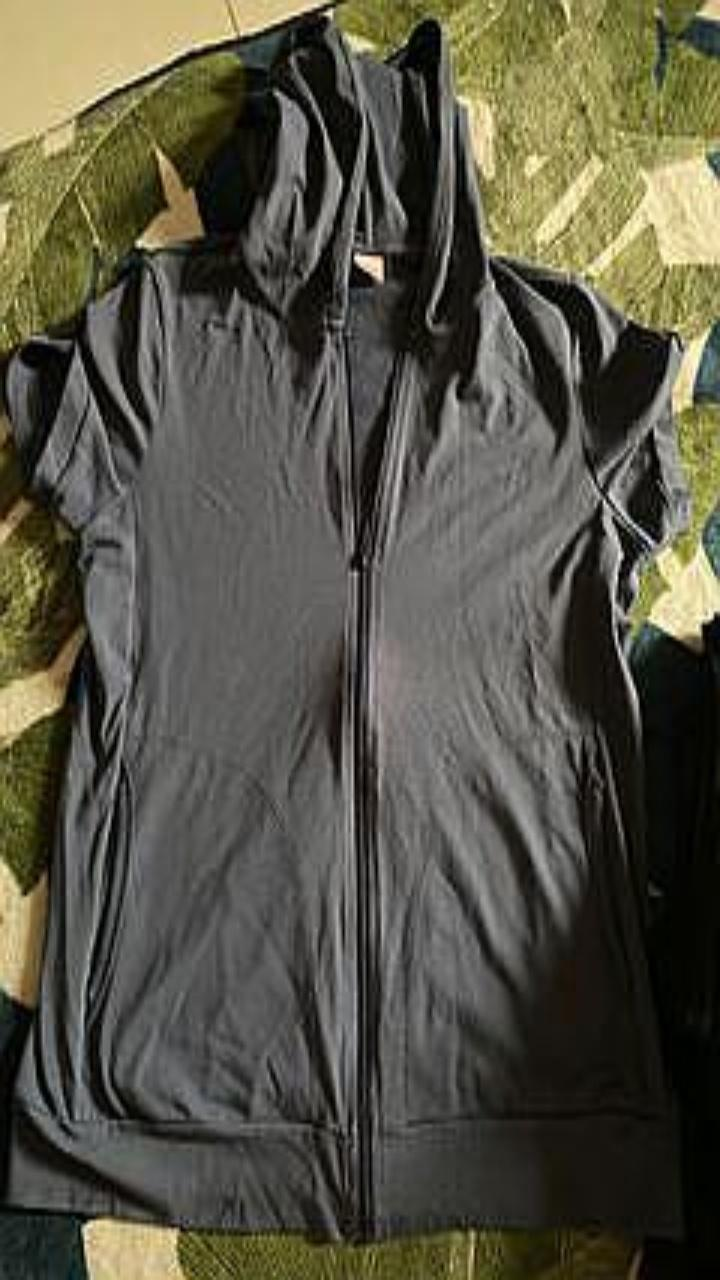Sports_Jacket: (5, 14, 690, 1239)
